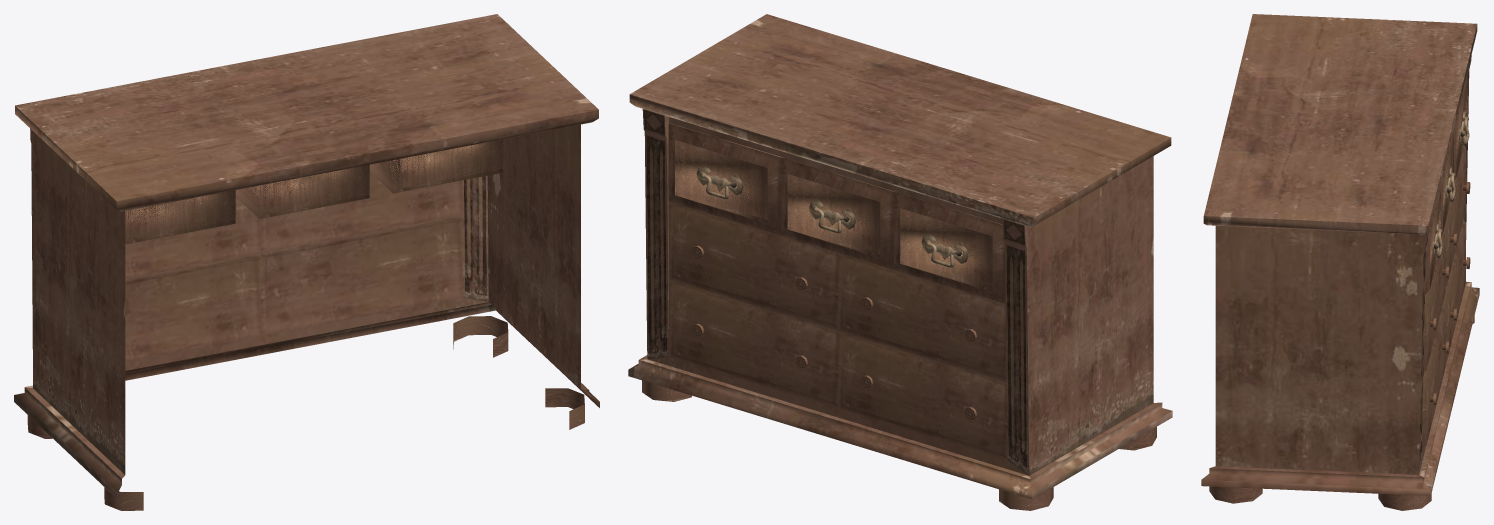
Rendered from Quarto_Estante2.fbx.
The picture shows the model from 3 angles, left to right: view 1: azimuth 30°, elevation 25°; view 2: azimuth 150°, elevation 25°; view 3: azimuth 270°, elevation 25°; orthographic projection. The views are drawn at different scales.
Parts seen in each view (by area): view 1: ESTANTE_2, ESTANTE_2_GAVETA3, ESTANTE_2_GAVETA2, ESTANTE_2_GAVETA1; view 2: ESTANTE_2, ESTANTE_2_GAVETA2, ESTANTE_2_GAVETA3, ESTANTE_2_GAVETA1; view 3: ESTANTE_2, ESTANTE_2_GAVETA2, ESTANTE_2_GAVETA1, ESTANTE_2_GAVETA3.
Boxes of the visible parts, box(x1,y1,x2,y2) form: ESTANTE_2: box(14, 14, 599, 510); ESTANTE_2_GAVETA3: box(235, 164, 369, 218); ESTANTE_2_GAVETA2: box(369, 139, 503, 193); ESTANTE_2_GAVETA1: box(125, 190, 235, 244); ESTANTE_2: box(628, 14, 1172, 510); ESTANTE_2_GAVETA2: box(668, 123, 803, 235); ESTANTE_2_GAVETA3: box(781, 157, 915, 269); ESTANTE_2_GAVETA1: box(894, 191, 1005, 303); ESTANTE_2: box(1201, 14, 1479, 510); ESTANTE_2_GAVETA2: box(1425, 188, 1442, 294); ESTANTE_2_GAVETA1: box(1453, 76, 1469, 179); ESTANTE_2_GAVETA3: box(1439, 132, 1455, 235).
Bounding box in the file's own units: 15133 × 9568 × 8411.
